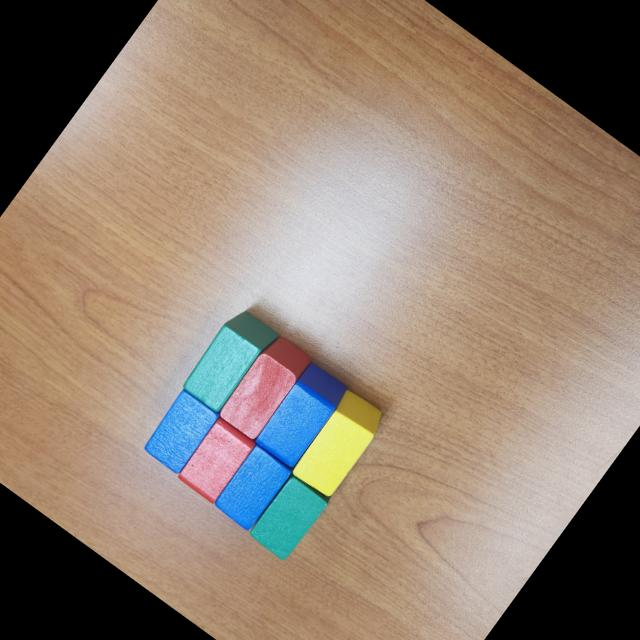blue: (250, 360, 352, 472), (206, 442, 294, 535), (138, 388, 222, 478)
green: (178, 302, 282, 418), (245, 472, 332, 566)
red: (215, 331, 314, 442), (176, 416, 256, 503)
yellow: (287, 387, 389, 500)
